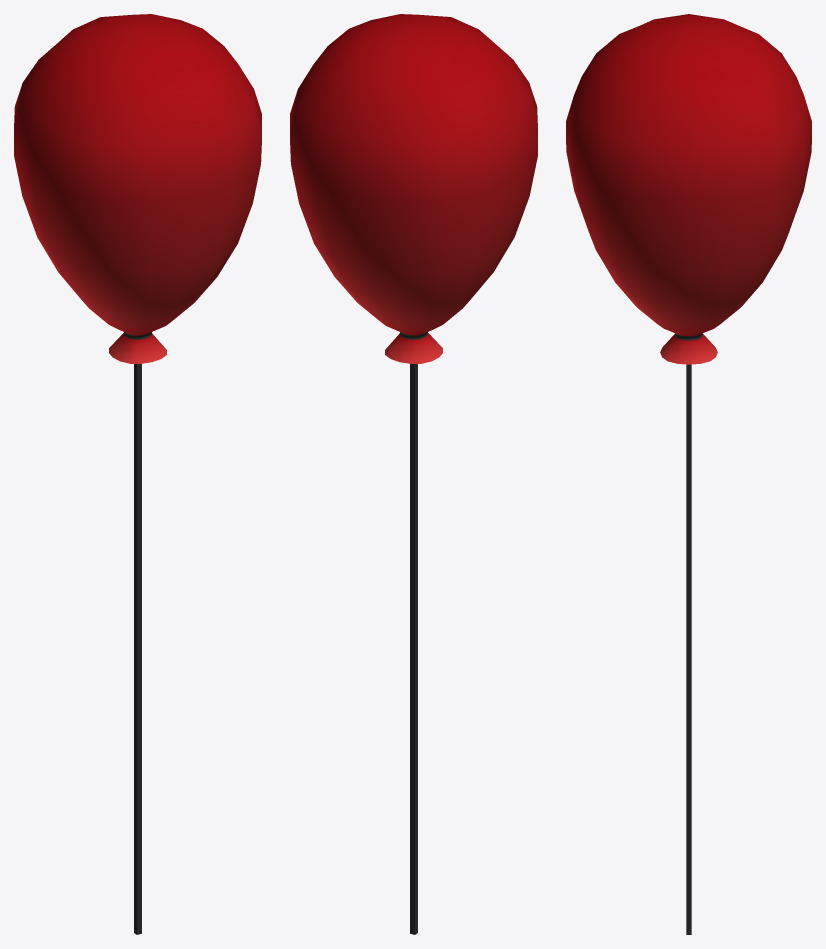
The model's file is human-toys-balloon_v1.glb.
3 views of the same model, side by side, from view 1: azimuth 30°, elevation 25°; view 2: azimuth 150°, elevation 25°; view 3: azimuth 270°, elevation 25° (orthographic).
Parts seen in each view (by area): view 1: Balloon.001; view 2: Balloon.001; view 3: Balloon.001.
Boxes of the visible parts, box(x1,y1,x2,y2) form: Balloon.001: box(14, 14, 261, 934); Balloon.001: box(290, 14, 537, 934); Balloon.001: box(566, 14, 811, 934).
Bounding box in the file's own units: 0.2462 × 1 × 0.2462.
